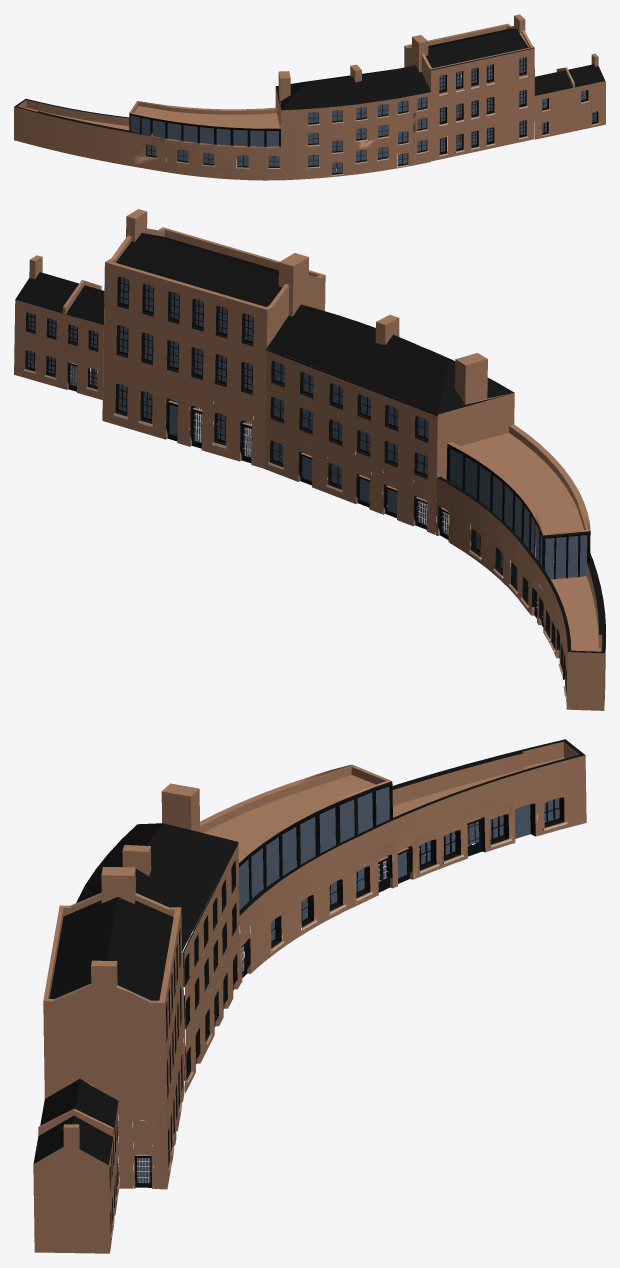
The model's file is fishcoal.glb.
3 views of the same model, one above another, from view 1: azimuth 30°, elevation 25°; view 2: azimuth 150°, elevation 25°; view 3: azimuth 270°, elevation 25° (orthographic). The views are drawn at different scales.
Visible parts, largest first — view 1: Fish & Coal Office.003, Drop1; view 2: Fish & Coal Office.003, Drop1; view 3: Fish & Coal Office.003, Drop1.
Boxes of the visible parts, x1,y1,x2,y2 form: Fish & Coal Office.003: (14, 14, 605, 180); Drop1: (130, 57, 596, 173); Fish & Coal Office.003: (14, 209, 605, 710); Drop1: (28, 277, 587, 621); Fish & Coal Office.003: (33, 739, 586, 1253); Drop1: (137, 786, 559, 1182).
Bounding box in the file's own units: 106 × 25.02 × 55.28.
